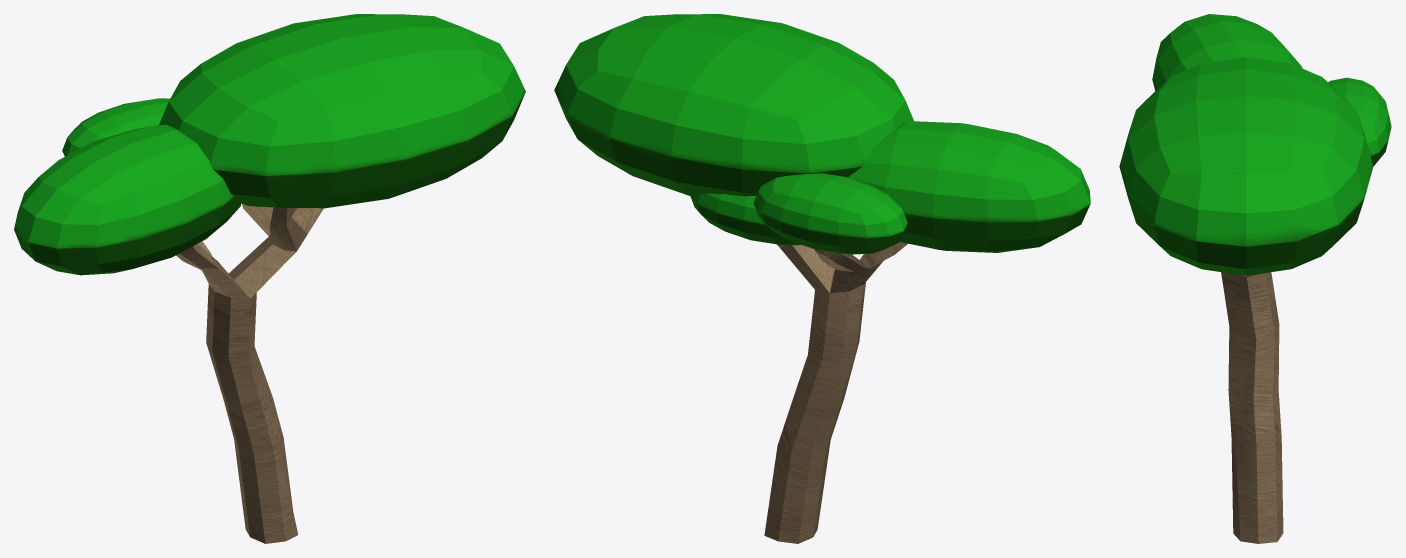
The model's file is tree-2.glb.
3 views of the same model, side by side, from view 1: azimuth 30°, elevation 25°; view 2: azimuth 150°, elevation 25°; view 3: azimuth 270°, elevation 25° (orthographic). The views are drawn at different scales.
Visible parts, largest first — view 1: Cube.008, Cube.007, tree2, Cube.006; view 2: Cube.008, Cube.007, tree2, Cube.006, Cube.005; view 3: Cube.008, tree2, Cube.007, Cube.006.
Part boxes in pixels (x1=…): Cube.008: x1=159, y1=14, x2=525, y2=208; Cube.007: x1=14, y1=125, x2=241, y2=275; tree2: x1=176, y1=203, x2=323, y2=543; Cube.006: x1=62, y1=98, x2=169, y2=156; Cube.008: x1=554, y1=14, x2=913, y2=196; Cube.007: x1=848, y1=121, x2=1090, y2=252; tree2: x1=764, y1=242, x2=907, y2=543; Cube.006: x1=753, y1=173, x2=907, y2=254; Cube.005: x1=690, y1=193, x2=801, y2=245; Cube.008: x1=1119, y1=57, x2=1373, y2=275; tree2: x1=1221, y1=272, x2=1283, y2=543; Cube.007: x1=1152, y1=14, x2=1302, y2=90; Cube.006: x1=1328, y1=77, x2=1391, y2=166.
Bounding box in the file's own units: 14.57 × 13.27 × 7.01.
Materials: 2 (2 with a texture image).
